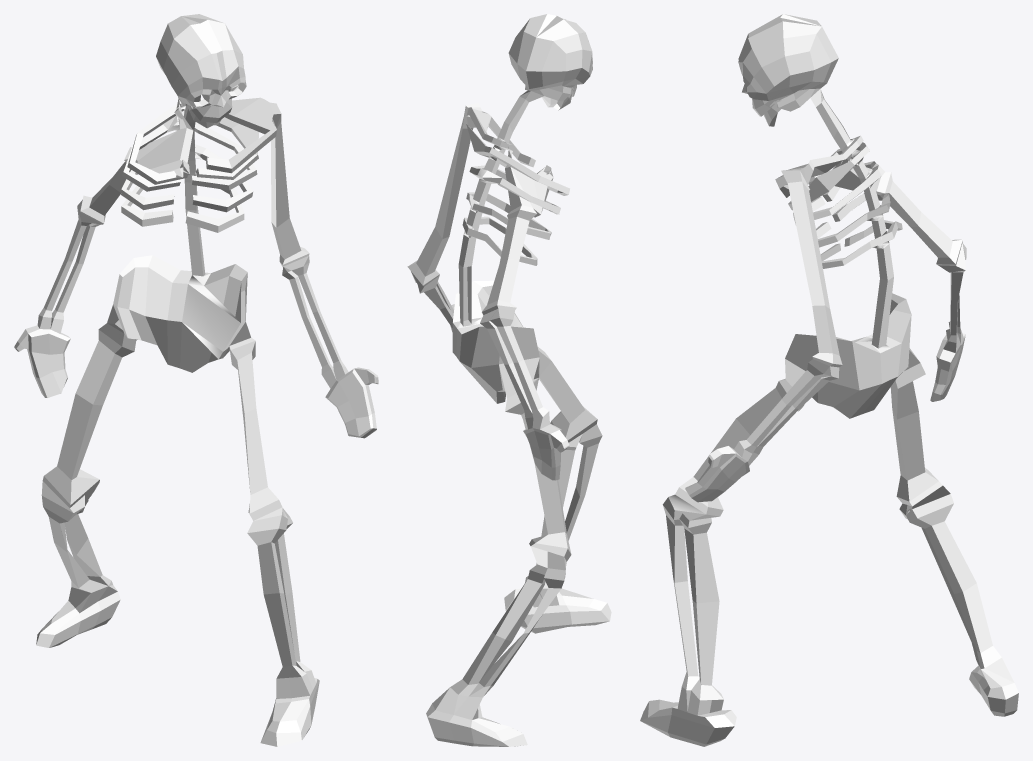
File: SkeletonIdle(118).obj
3 renders of one model, left to right at view 1: azimuth 30°, elevation 25°; view 2: azimuth 150°, elevation 25°; view 3: azimuth 270°, elevation 25°, orthographic. The views are drawn at different scales.
Parts seen in each view (by area): view 1: Object002; view 2: Object002; view 3: Object002.
Part boxes in pixels (box(x1,y1,x2,y2)): Object002: box(14, 14, 378, 746); Object002: box(407, 14, 611, 746); Object002: box(640, 14, 1018, 746).
Bounding box in the file's own units: 419 × 1122 × 556.
